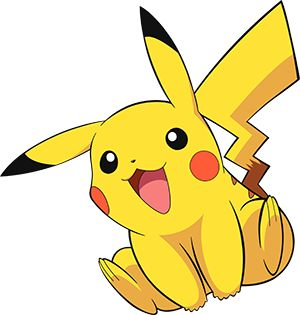Pikachu: (1, 2, 299, 315)
